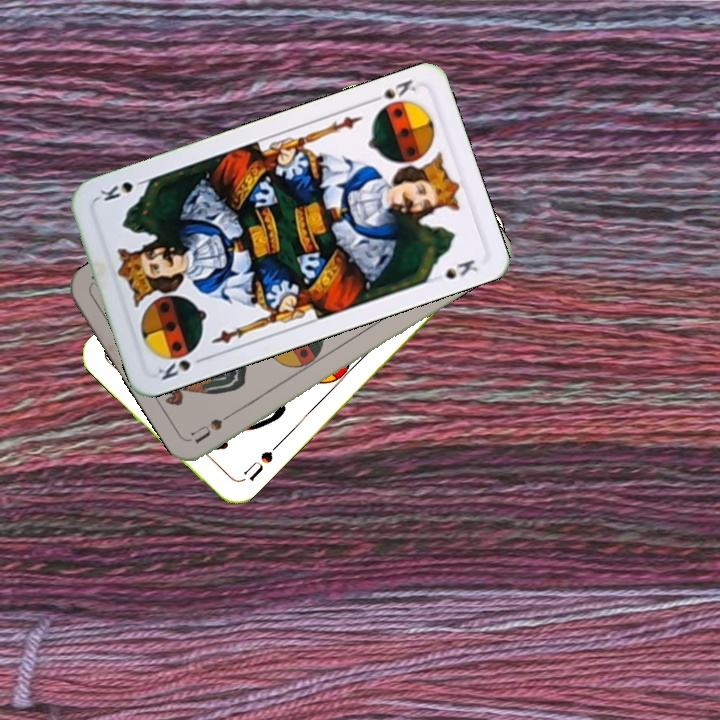SK: (365, 75, 418, 115), (153, 352, 210, 383)
SU: (187, 404, 242, 446), (239, 446, 276, 484)
